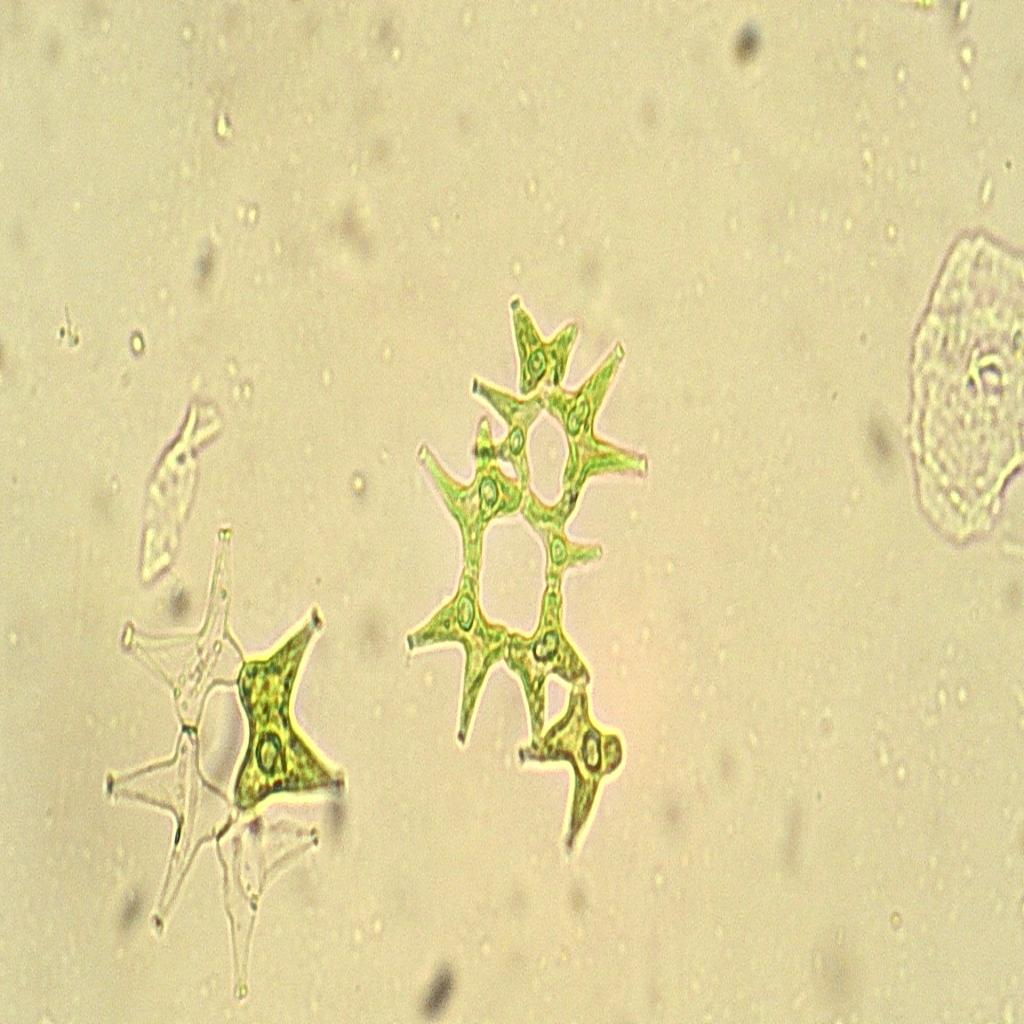Pediastrum_1TH: (400, 280, 660, 880)
